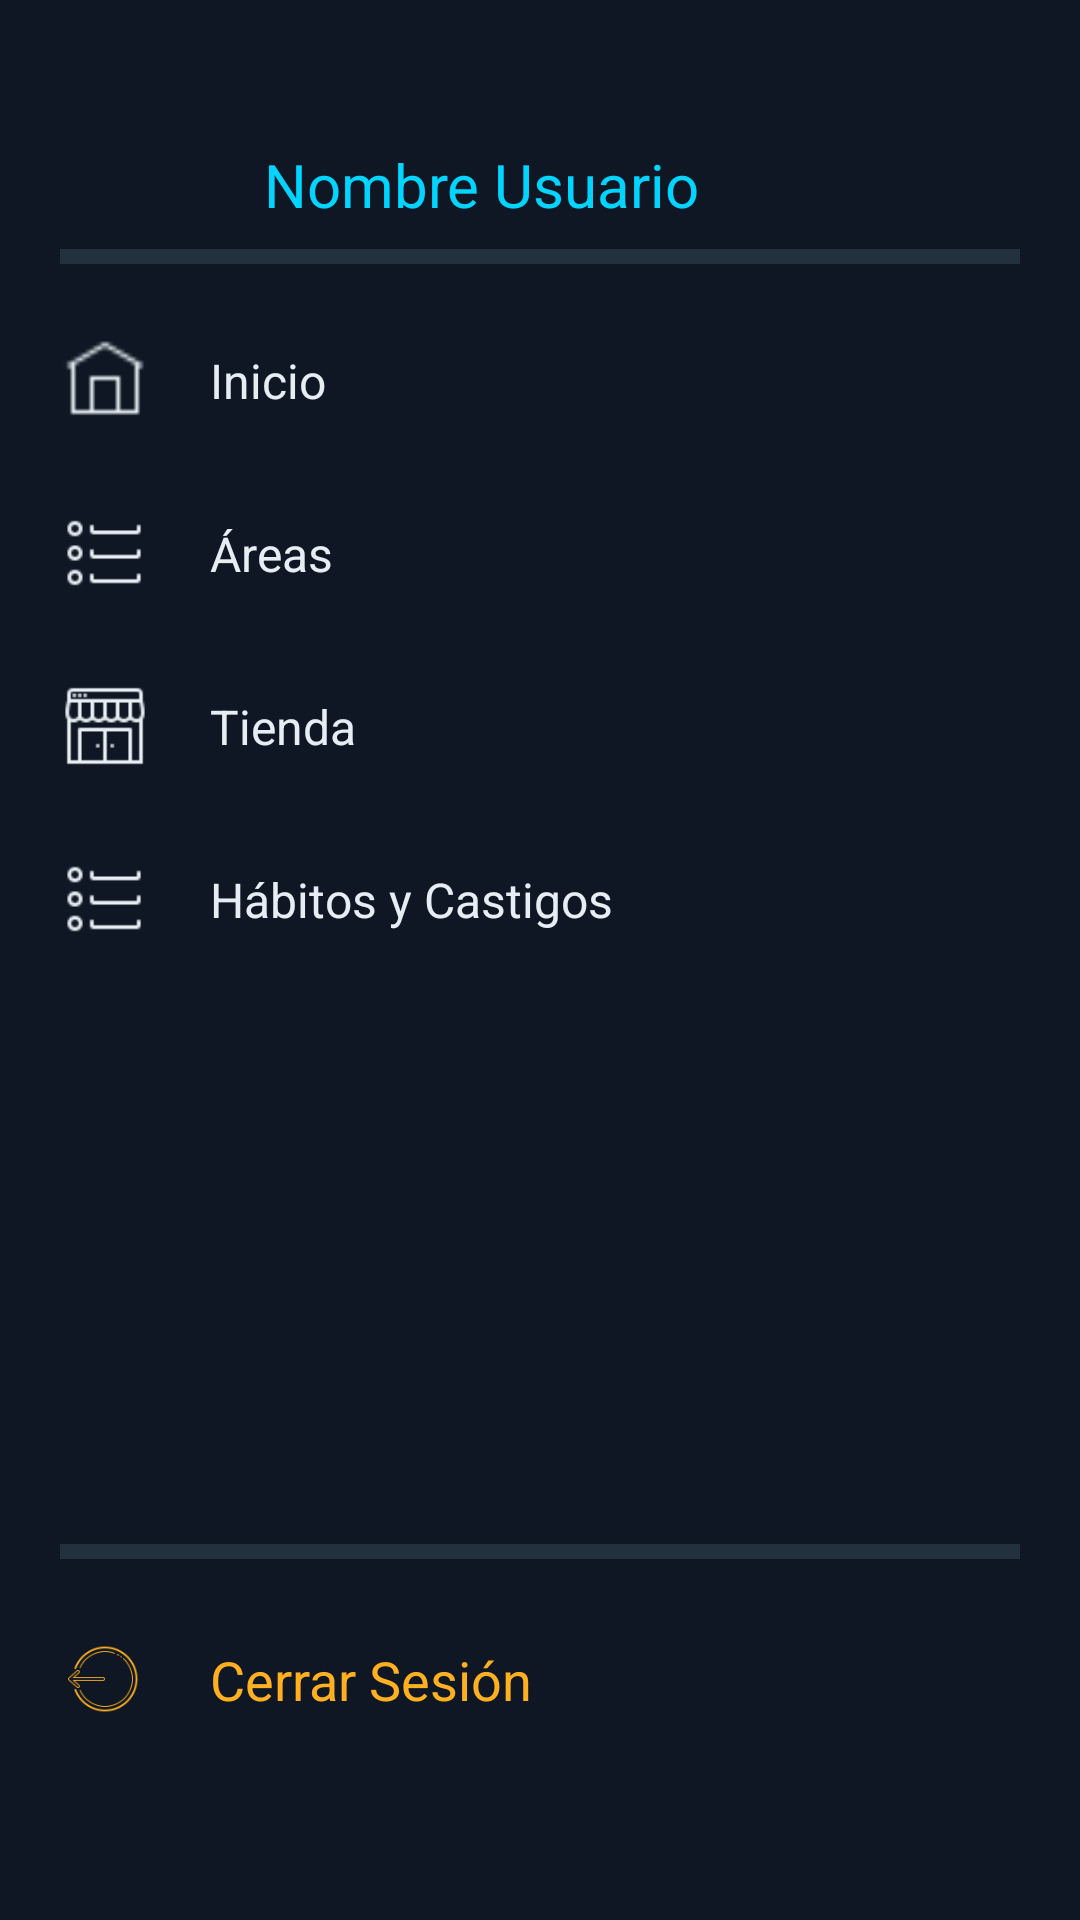

Locate icon controls on the screen. Image size 1080x1920, boxes as (x1, y1, x2, y2).
Icono de Home: (66, 341, 144, 415)
Icono de Lista: (67, 520, 141, 586)
